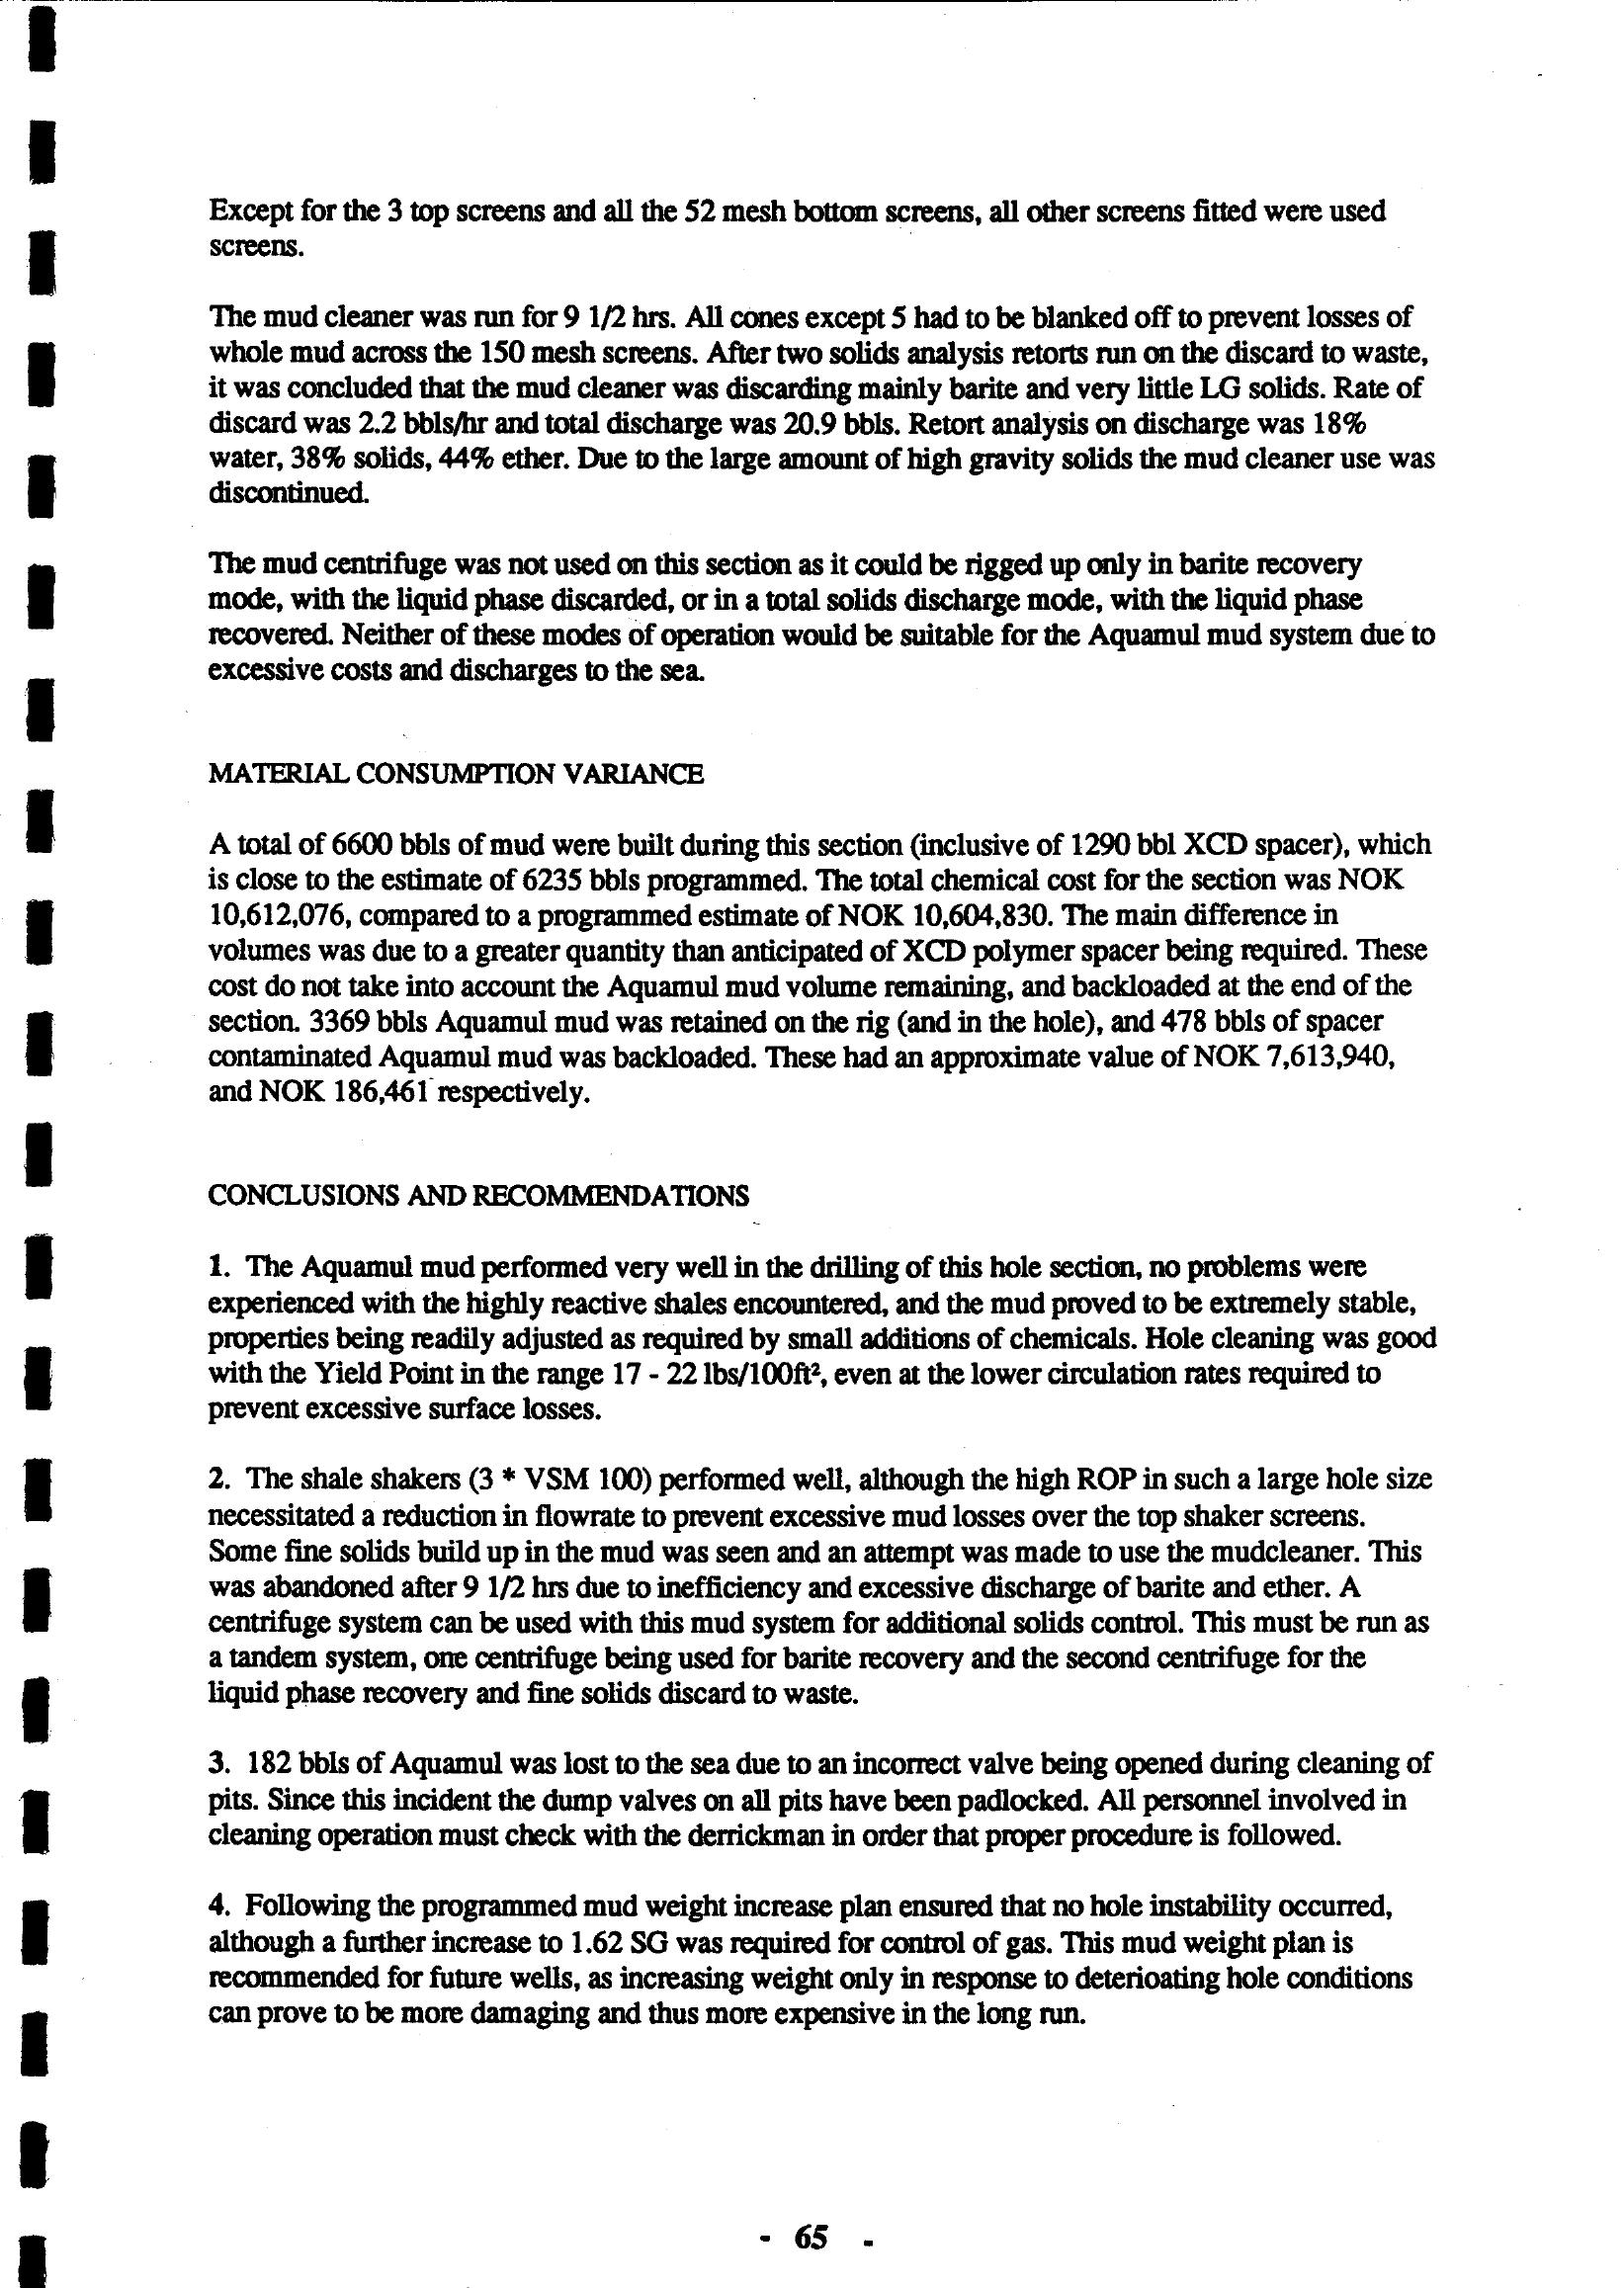text: (179, 170, 1464, 2082)
